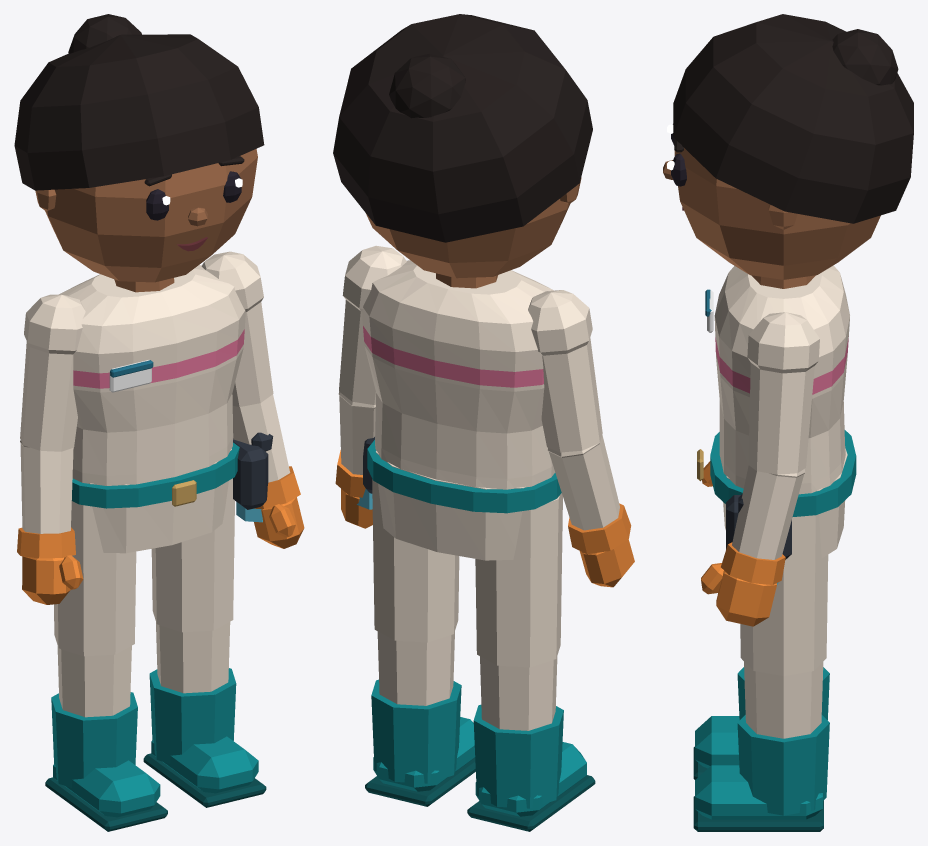
Rendered from rei_cor.glb.
The picture shows the model from 3 angles, left to right: view 1: azimuth 30°, elevation 25°; view 2: azimuth 150°, elevation 25°; view 3: azimuth 270°, elevation 25°; orthographic projection. The views are drawn at different scales.
Visible parts, largest first — view 1: haare, torso, kopf, arm_r, bein_r, bein_l, schuh_l, schuh_r, arm_l, becken, gürtel, accessoire_sprayholster (+4 smaller); view 2: haare, torso, bein_r, arm_r, bein_l, schuh_r, schuh_l, arm_l, becken, kopf, gürtel, hand_r (+3 smaller); view 3: haare, torso, arm_l, bein_l, kopf, schuh_l, gürtel, schuh_r, hand_l, becken, accessoire_sprayholster, gesicht (+1 smaller).
Part boxes in pixels (left/top/right/bottom): haare: left=14, top=14, right=264, bottom=190; torso: left=59, top=265, right=245, bottom=485; kopf: left=35, top=149, right=257, bottom=282; arm_r: left=17, top=294, right=85, bottom=558; bein_r: left=54, top=501, right=136, bottom=717; bein_l: left=151, top=478, right=234, bottom=693; schuh_l: left=143, top=668, right=266, bottom=807; schuh_r: left=45, top=692, right=167, bottom=831; arm_l: left=201, top=251, right=300, bottom=508; becken: left=89, top=448, right=231, bottom=553; gürtel: left=71, top=442, right=239, bottom=508; accessoire_sprayholster: left=233, top=432, right=273, bottom=522; haare: left=333, top=14, right=592, bottom=242; torso: left=362, top=260, right=555, bottom=489; bein_r: left=475, top=493, right=562, bottom=730; arm_r: left=528, top=290, right=631, bottom=554; bein_l: left=372, top=479, right=459, bottom=705; schuh_r: left=467, top=704, right=595, bottom=831; schuh_l: left=365, top=679, right=475, bottom=806; arm_l: left=335, top=245, right=406, bottom=497; becken: left=376, top=451, right=525, bottom=560; kopf: left=366, top=177, right=581, bottom=278; gürtel: left=367, top=440, right=561, bottom=513; hand_r: left=579, top=539, right=634, bottom=587; haare: left=673, top=14, right=913, bottom=223; torso: left=714, top=265, right=849, bottom=494; arm_l: left=721, top=312, right=819, bottom=584; bein_l: left=740, top=514, right=828, bottom=738; kopf: left=674, top=148, right=880, bottom=279; schuh_l: left=693, top=715, right=829, bottom=831; gürtel: left=697, top=430, right=856, bottom=516; schuh_r: left=693, top=667, right=829, bottom=779; hand_l: left=701, top=563, right=776, bottom=626; becken: left=723, top=448, right=847, bottom=558; accessoire_sprayholster: left=726, top=494, right=791, bottom=584; gesicht: left=663, top=124, right=686, bottom=210.
Size of the model in its own units: 0.00962 by 0.0244 by 0.0073.
